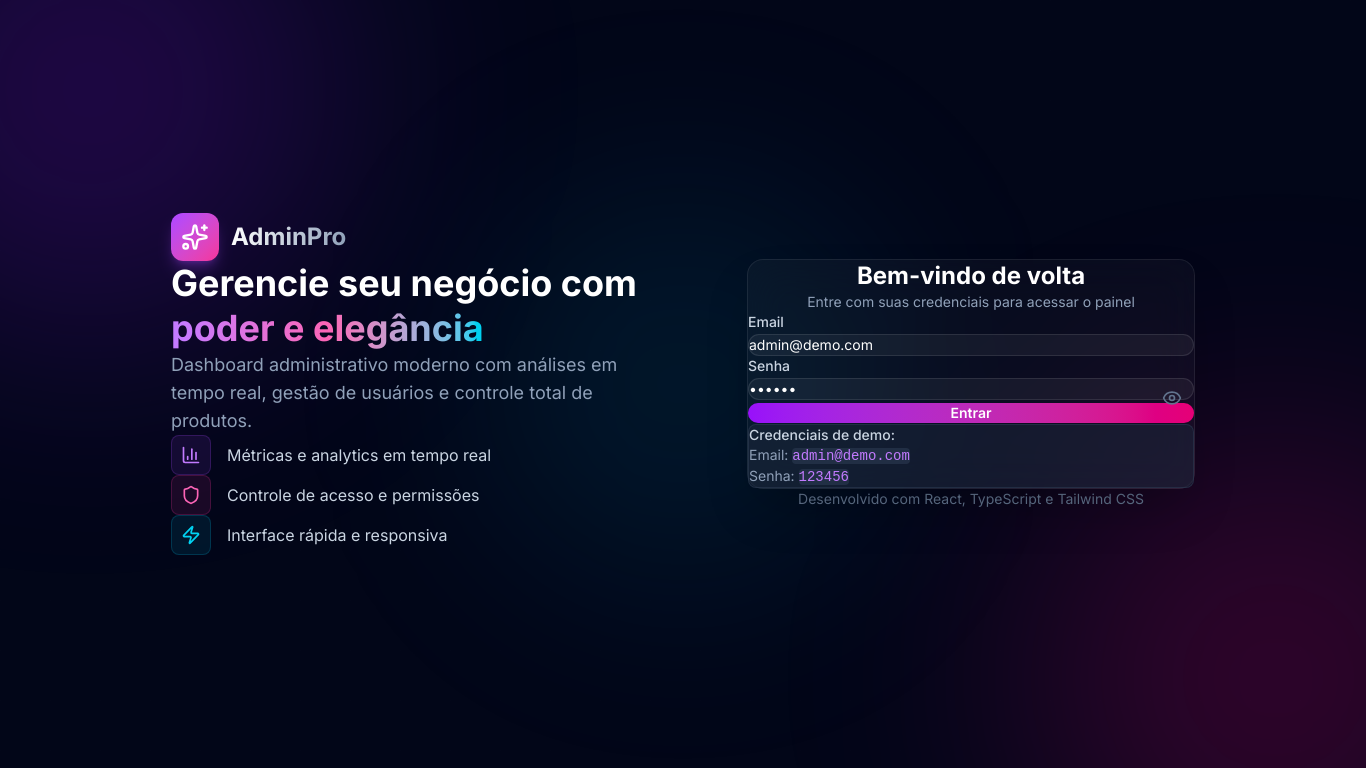
Test: LoginPage › shows validation errors for empty fields
// Clear default values
Clear the field labelled "Email" at (971, 345), box [748, 334, 1194, 356]
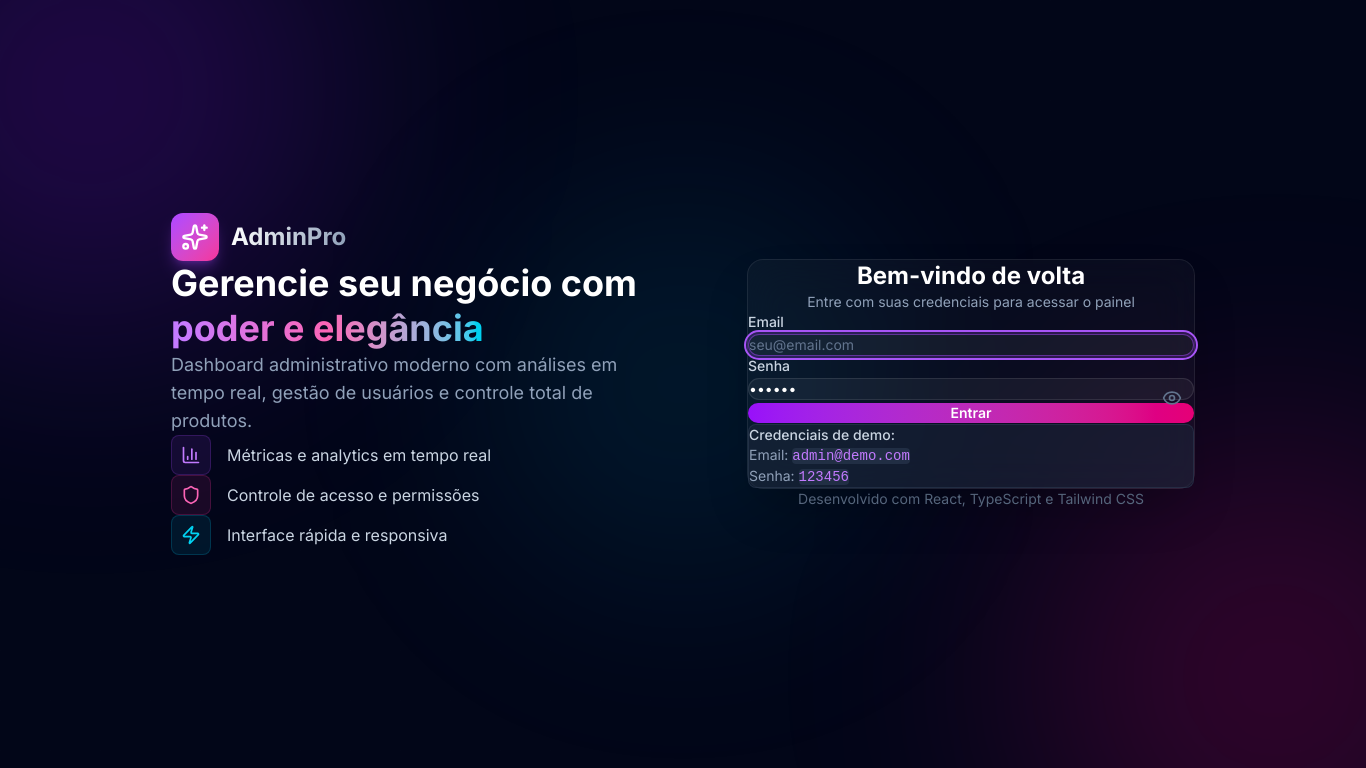
Clear the password field labelled "Senha" at (971, 389), box [748, 378, 1194, 400]
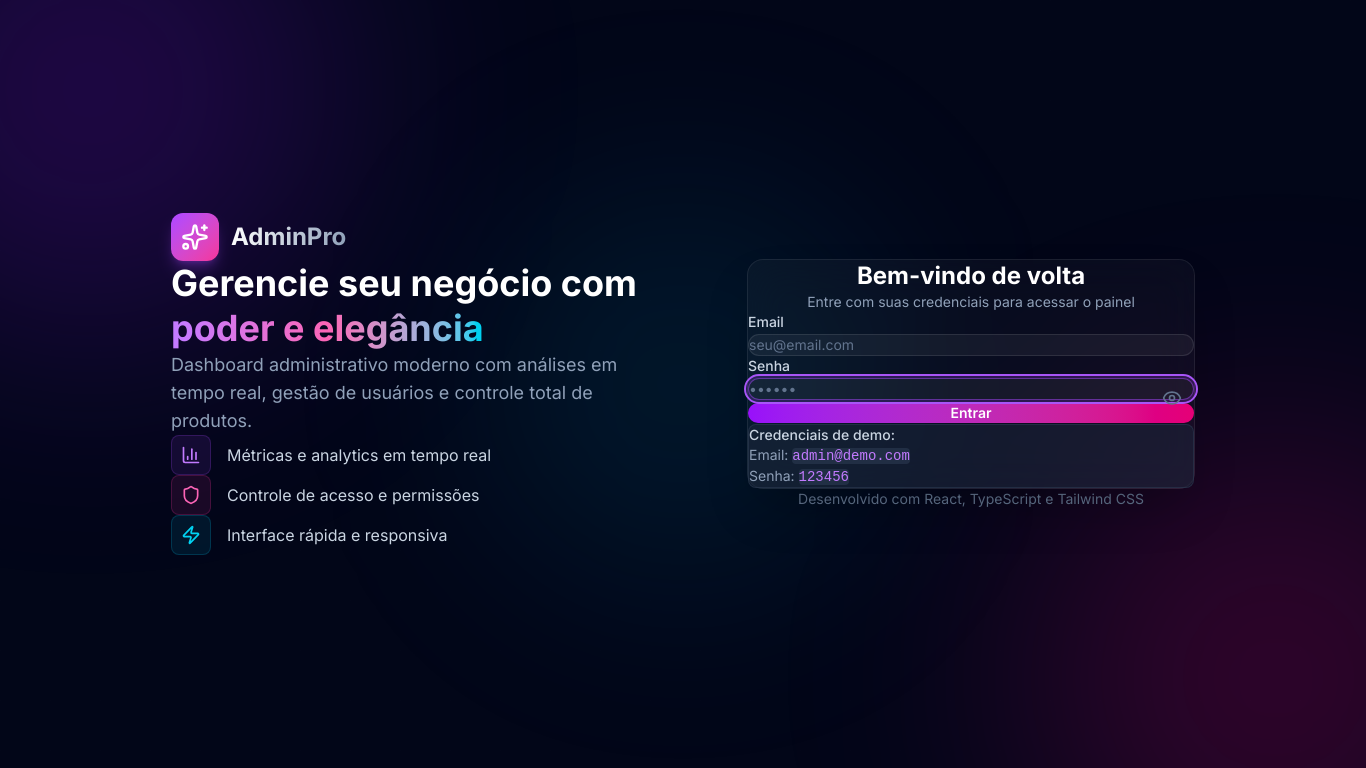
Click the button "Entrar" at (971, 413), box [748, 403, 1194, 423]
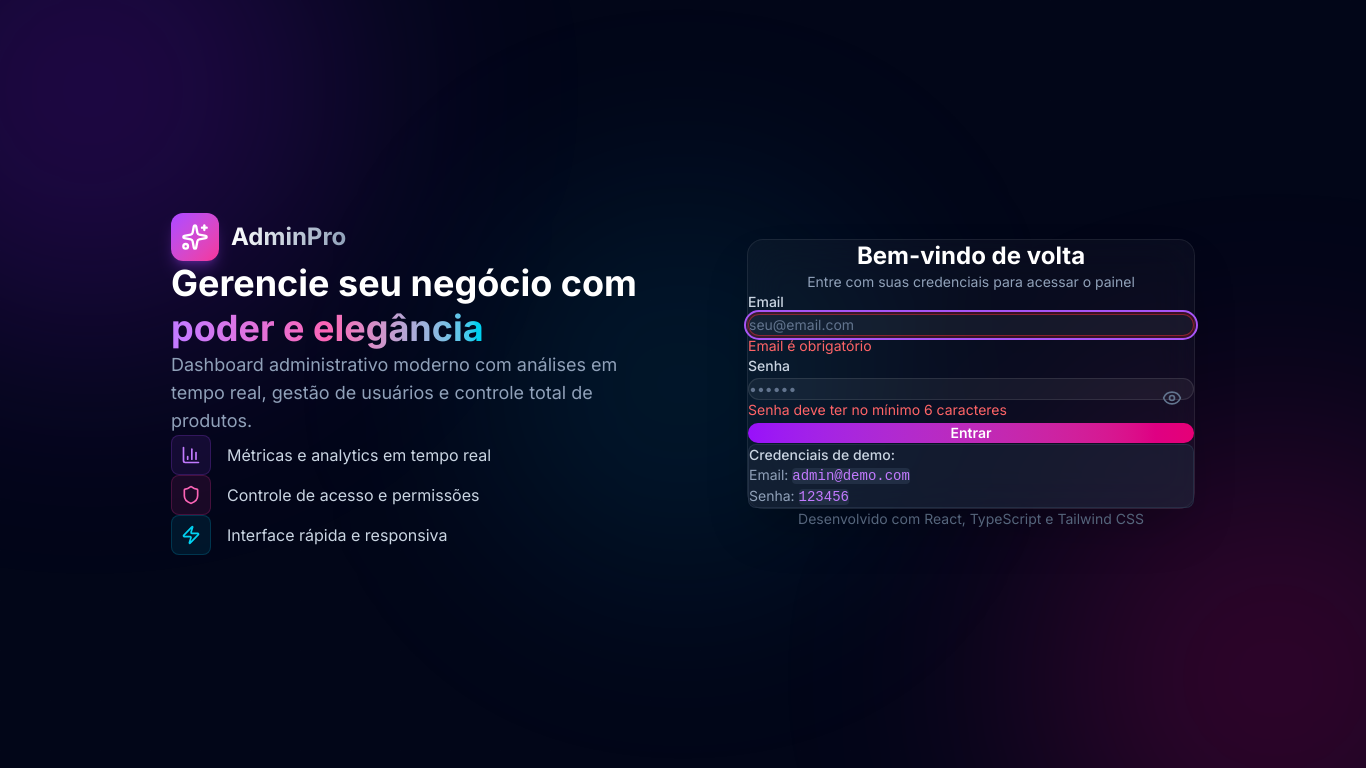
Check: the text "Email é obrigatório" is shown, box [748, 337, 872, 354]
